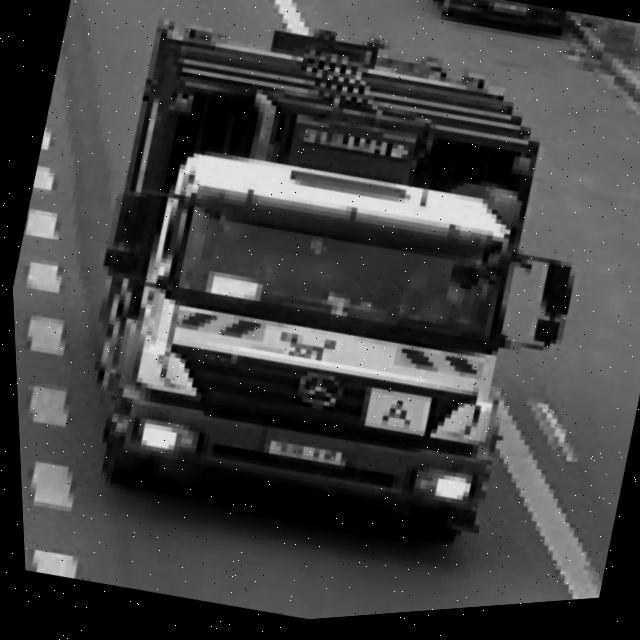truck: (26, 0, 630, 596)
